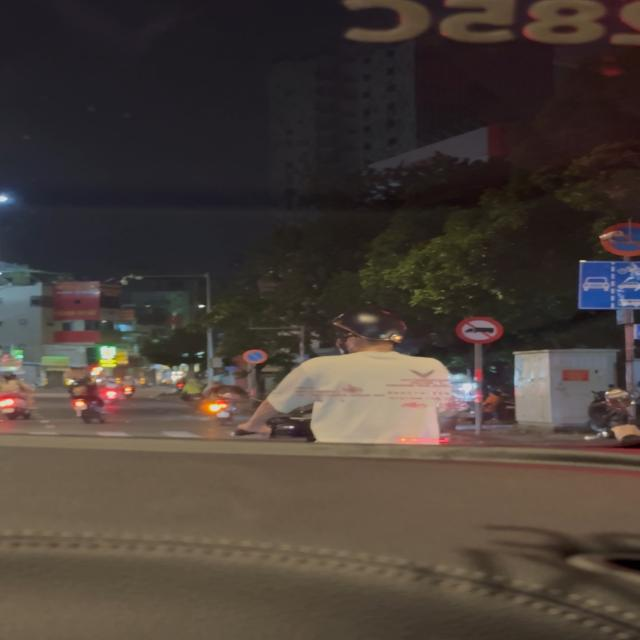Bien bao cam do xe: (241, 346, 270, 364)
Bien bao cam xe so-mi ro-mooc: (453, 315, 505, 345)
